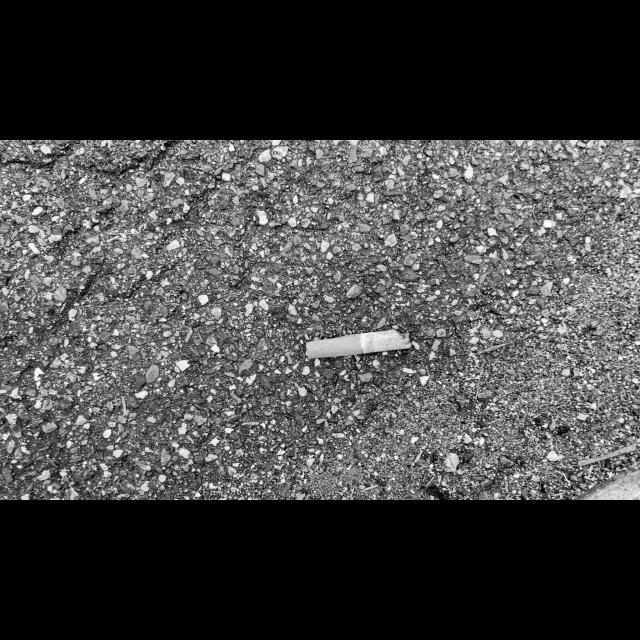cigarette: (305, 328, 413, 360)
